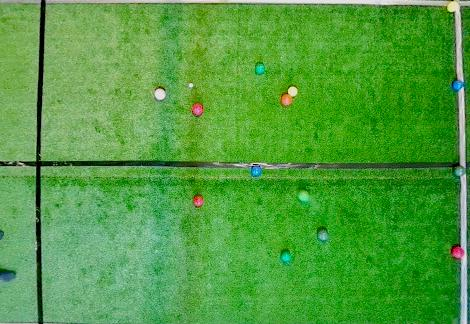blue: (452, 81, 465, 91), (251, 166, 262, 177)
green: (317, 229, 329, 241), (298, 190, 309, 202), (454, 166, 465, 177), (281, 251, 291, 263), (255, 63, 265, 74)
red: (191, 102, 203, 116), (452, 247, 465, 259), (281, 94, 293, 106), (154, 88, 166, 100), (193, 195, 203, 206)
vline: (1, 0, 46, 323), (454, 12, 469, 82), (457, 91, 469, 167), (460, 177, 469, 249), (459, 260, 469, 324)
white: (189, 83, 194, 88)
yellow: (446, 1, 460, 13), (287, 86, 298, 98)
